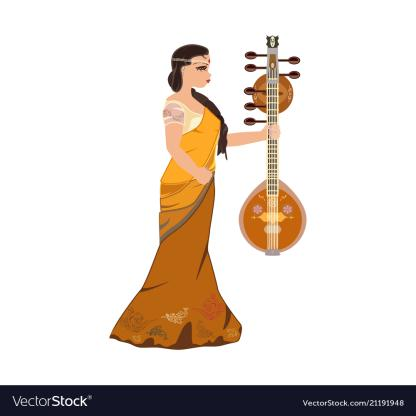Veena: (234, 31, 307, 260)
